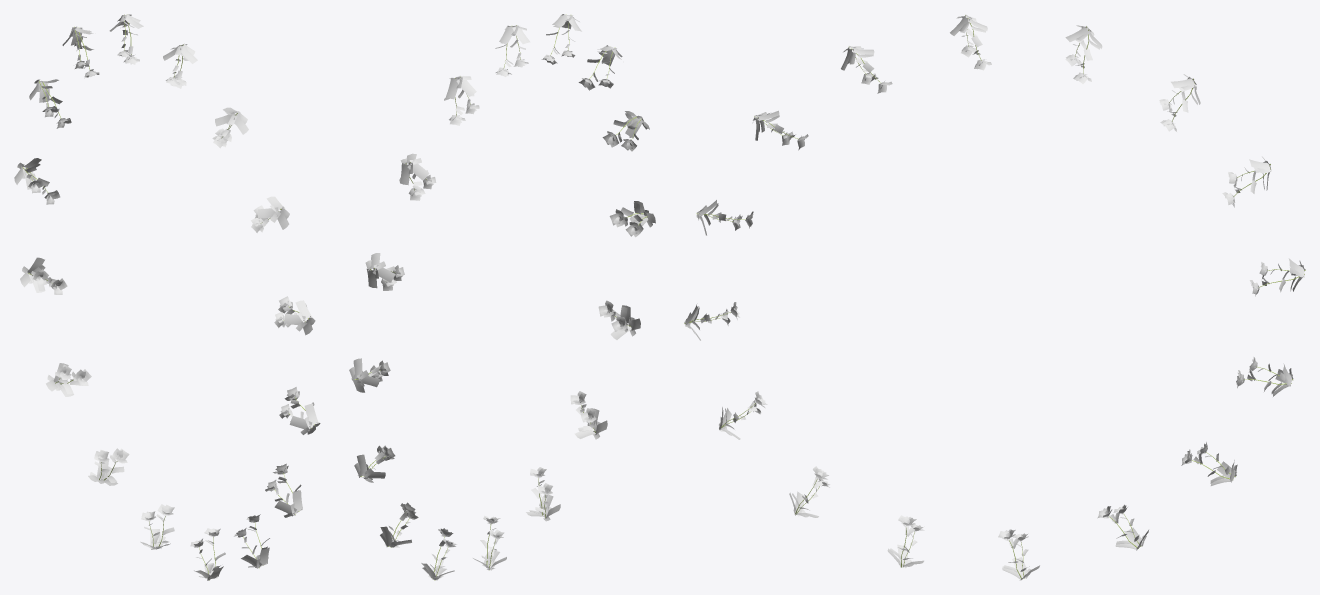
File: poppy_array.fbx
3 views of the same model, side by side, from view 1: azimuth 30°, elevation 25°; view 2: azimuth 150°, elevation 25°; view 3: azimuth 270°, elevation 25° (orthographic). The views are drawn at different scales.
Visible parts, largest first — view 1: leaf5.001; view 2: leaf5.001; view 3: leaf5.001.
Boxes of the visible parts, <box> form: leaf5.001: <box>14,14,320,580</box>; leaf5.001: <box>349,14,655,580</box>; leaf5.001: <box>684,14,1305,580</box>.
Size of the model in its own units: 25.62 by 427 by 427.
